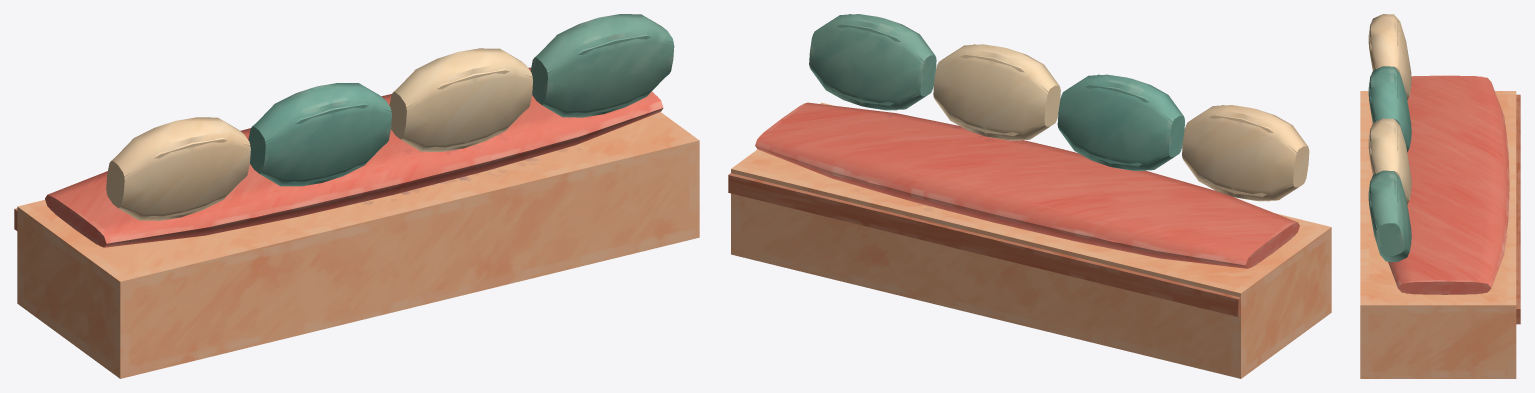
The model's file is divan.bundle.fbx.
3 views of the same model, side by side, from view 1: azimuth 30°, elevation 25°; view 2: azimuth 150°, elevation 25°; view 3: azimuth 270°, elevation 25° (orthographic). The views are drawn at different scales.
Visible parts, largest first — view 1: divan, divan_low, divan_s02, divan_s04, divan_s00, divan_s01, divan_s06; view 2: divan, divan_low, divan_s04, divan_s01, divan_s06, divan_s05, divan_s00, divan_s02, divan_s03; view 3: divan, divan_low, divan_s04, divan_s05, divan_s01, divan_s00, divan_s02.
Boxes of the visible parts, left/top/right/bottom form: divan: left=14, top=14, right=688, bottom=371; divan_low: left=17, top=18, right=699, bottom=378; divan_s02: left=83, top=227, right=368, bottom=378; divan_s04: left=355, top=217, right=534, bottom=317; divan_s00: left=591, top=112, right=699, bottom=263; divan_s01: left=16, top=200, right=71, bottom=302; divan_s06: left=53, top=220, right=300, bottom=346; divan: left=728, top=14, right=1316, bottom=371; divan_low: left=731, top=14, right=1331, bottom=378; divan_s04: left=844, top=201, right=951, bottom=300; divan_s01: left=1081, top=259, right=1271, bottom=378; divan_s06: left=1254, top=246, right=1306, bottom=365; divan_s05: left=946, top=224, right=1099, bottom=289; divan_s00: left=728, top=103, right=869, bottom=287; divan_s02: left=1284, top=215, right=1331, bottom=336; divan_s03: left=1054, top=275, right=1132, bottom=348; divan: left=1365, top=14, right=1520, bottom=374; divan_low: left=1360, top=15, right=1516, bottom=378; divan_s04: left=1360, top=177, right=1520, bottom=260; divan_s05: left=1360, top=155, right=1520, bottom=216; divan_s01: left=1495, top=91, right=1520, bottom=155; divan_s00: left=1360, top=257, right=1520, bottom=308; divan_s02: left=1360, top=91, right=1370, bottom=152.
Size of the model in its own units: 7.8 by 2.88 by 2.47.
Materials: 1 (1 with a texture image).
